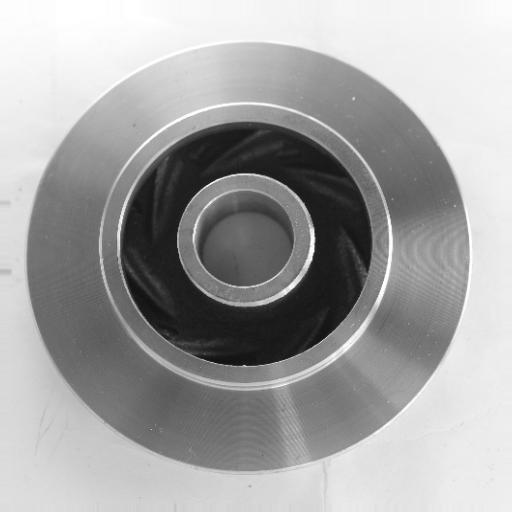polished_casting: (25, 41, 475, 474)
